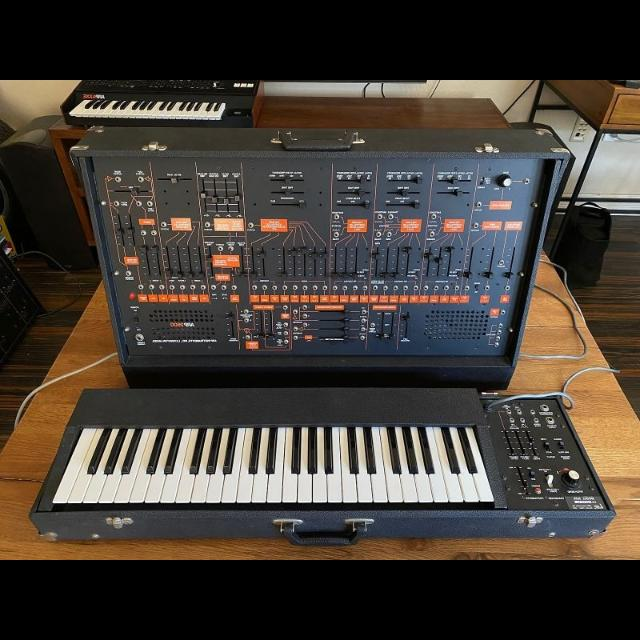Electronic-Keyboard: (23, 142, 625, 542)
